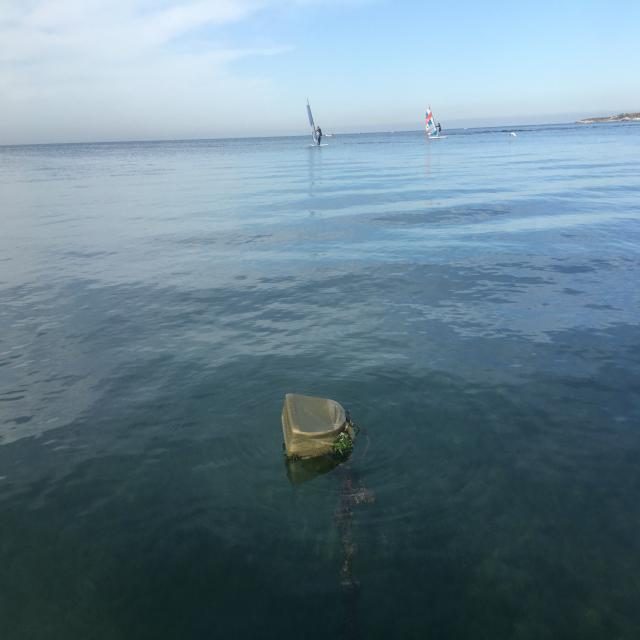Plastic: (277, 387, 359, 469)
